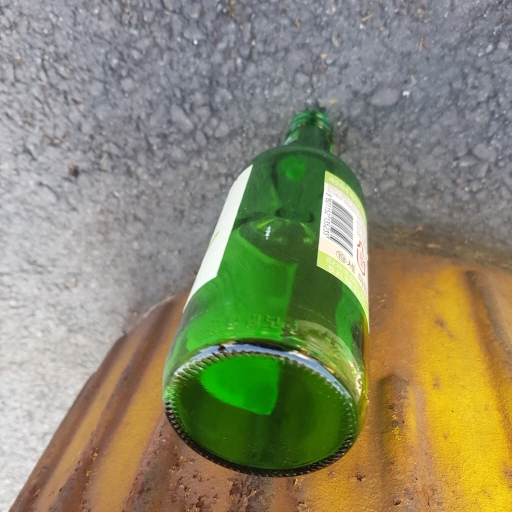Glass_0: (170, 108, 375, 480)
